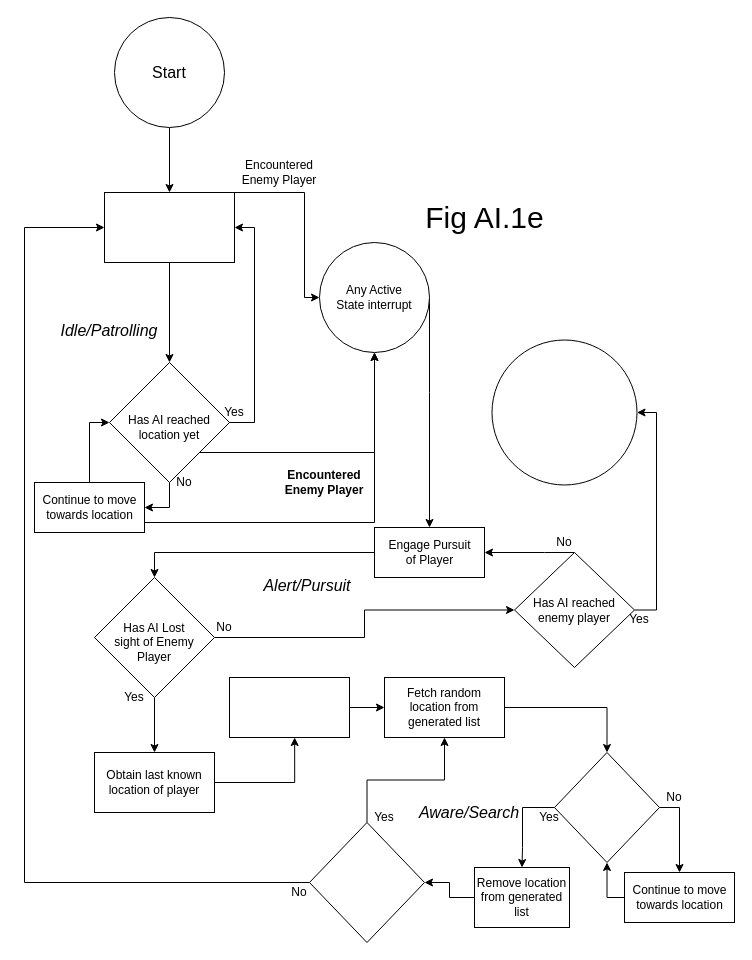
This 752x960 diagram has some shape labels left out. Here are the shapes that lost their labels. From the top down, the centre of each, then its label:
At point 169,227: "Select a preset Patrol location".
At point 564,412: "Automatically engage player in battle instance when in range".
At point 289,707: "Generate search waypoints based on last known location".
At point 607,807: "Has reached location?".
At point 366,882: "Any remaining search locations?".
